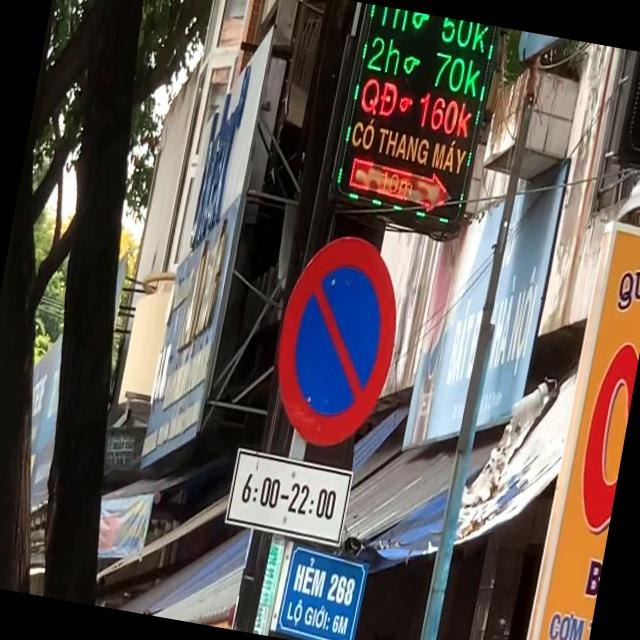P-131a: (261, 225, 411, 453)
